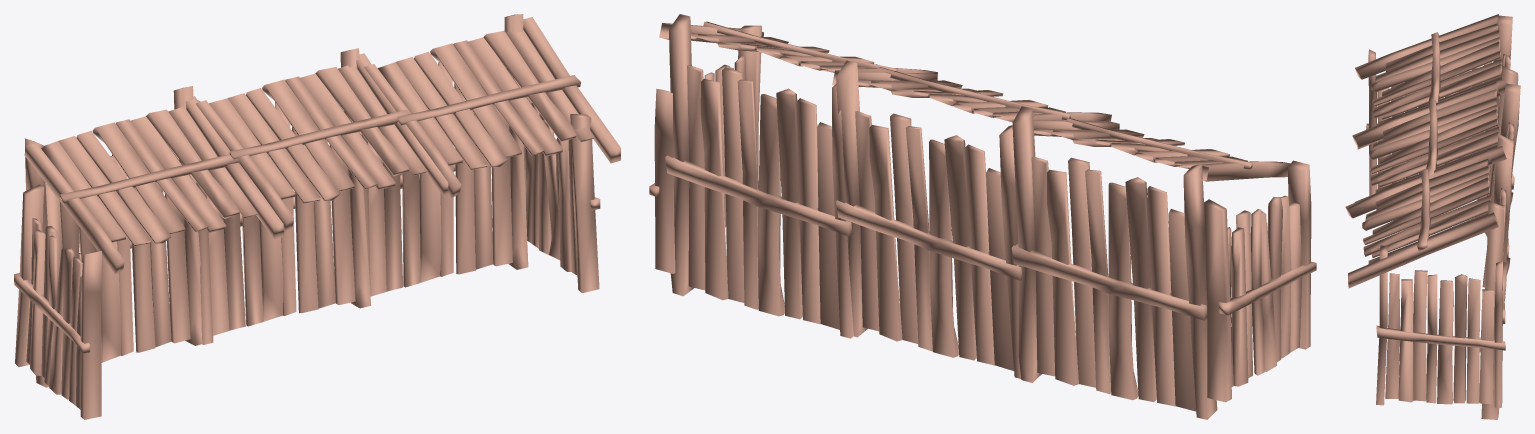
The model's file is prop_shed_02.fbx.
The picture shows the model from 3 angles, left to right: view 1: azimuth 30°, elevation 25°; view 2: azimuth 150°, elevation 25°; view 3: azimuth 270°, elevation 25°; orthographic projection. The views are drawn at different scales.
Parts seen in each view (by area): view 1: prop_shed_02; view 2: prop_shed_02; view 3: prop_shed_02.
Part boxes in pixels (x1,y1,x2,y2): prop_shed_02: (14,14,620,419); prop_shed_02: (649,14,1316,419); prop_shed_02: (1345,14,1520,419).
Bounding box in the file's own units: 574 × 261 × 192.
